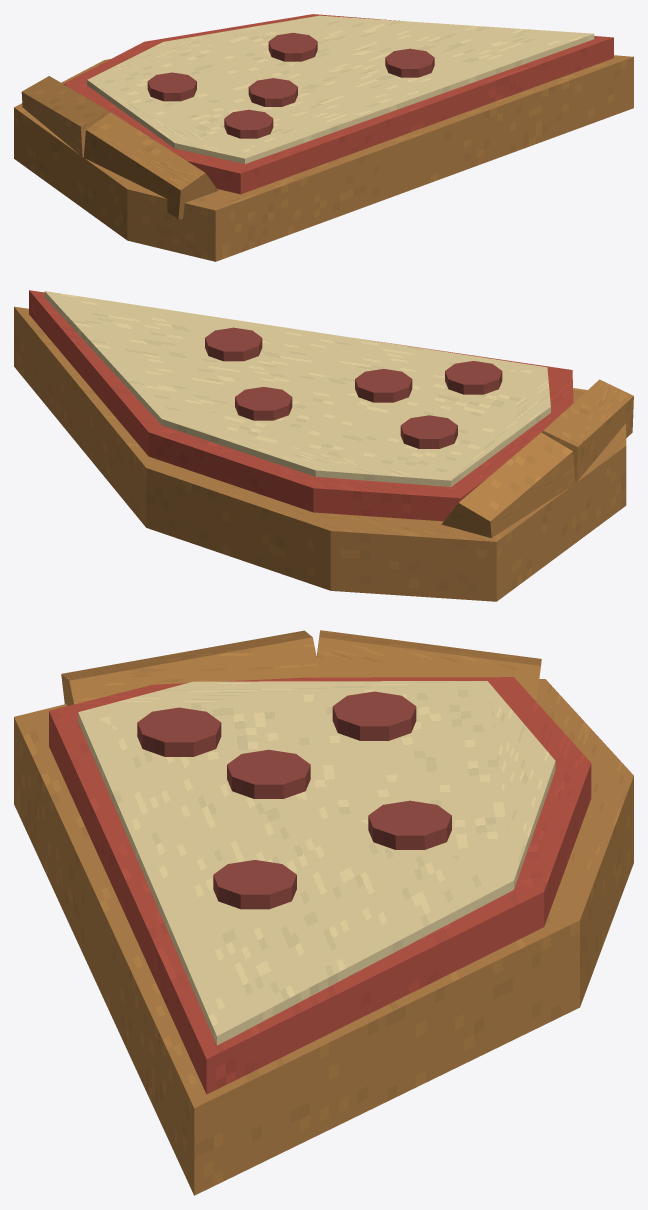
The model's file is pizza_meat.glb.
3 renders of one model, top to bottom at view 1: azimuth 30°, elevation 25°; view 2: azimuth 150°, elevation 25°; view 3: azimuth 270°, elevation 25°, orthographic. The views are drawn at different scales.
Visible parts, largest first — view 1: block_baked crust, block_melted cheese, block_exposed filling, block_raised crust edge 1, block_meaty topping (×5), block_raised crust edge 0; view 2: block_melted cheese, block_baked crust, block_exposed filling, block_meaty topping (×5), block_raised crust edge 0, block_raised crust edge 1; view 3: block_melted cheese, block_baked crust, block_exposed filling, block_meaty topping (×5), block_raised crust edge 1, block_raised crust edge 0.
Boxes of the visible parts, box(x1,y1,x2,y2) form: block_baked crust: box(14, 55, 633, 261); block_melted cheese: box(87, 15, 594, 163); block_exposed filling: box(63, 14, 613, 194); block_raised crust edge 1: box(83, 112, 218, 219); block_meaty topping (×5): box(147, 32, 434, 138); block_raised crust edge 0: box(21, 76, 109, 157); block_melted cheese: box(44, 291, 550, 486); block_baked crust: box(14, 306, 626, 601); block_exposed filling: box(29, 290, 573, 521); block_meaty topping (×5): box(205, 327, 502, 448); block_raised crust edge 0: box(441, 432, 575, 537); block_raised crust edge 1: box(542, 379, 633, 483); block_melted cheese: box(78, 681, 555, 1045); block_baked crust: box(14, 679, 633, 1195); block_exposed filling: box(49, 677, 591, 1094); block_meaty topping (×5): box(137, 691, 451, 909); block_raised crust edge 1: box(61, 630, 317, 705); block_raised crust edge 0: box(316, 630, 541, 701).
Size of the model in its own units: 0.1203 by 0.0199 by 0.0734.
1 material, 1 textured.
